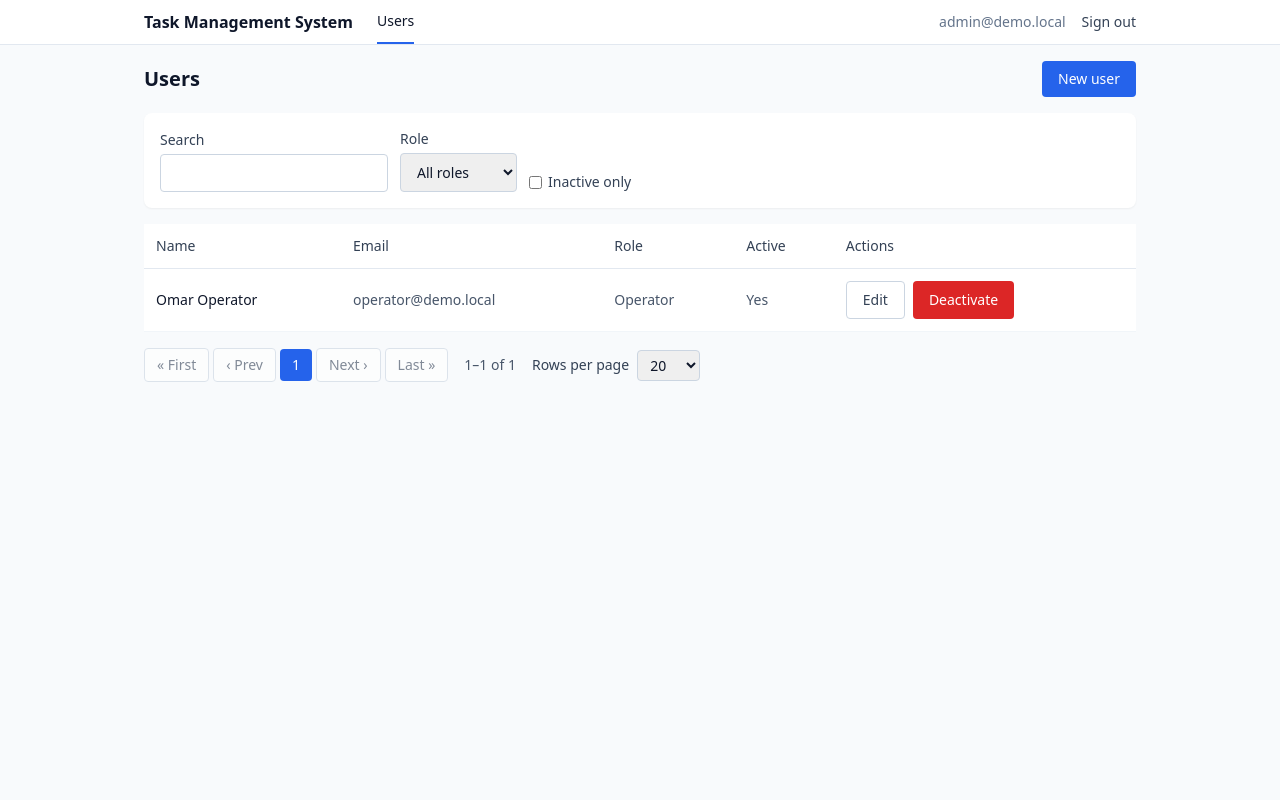
Scenario: UserListPage › focuses Cancel in the deactivate dialog and closes it on Escape (D60)
Step 1. Click the button with aria-label "deactivate operator@demo.local" → (964, 300), box [913, 281, 1014, 319]
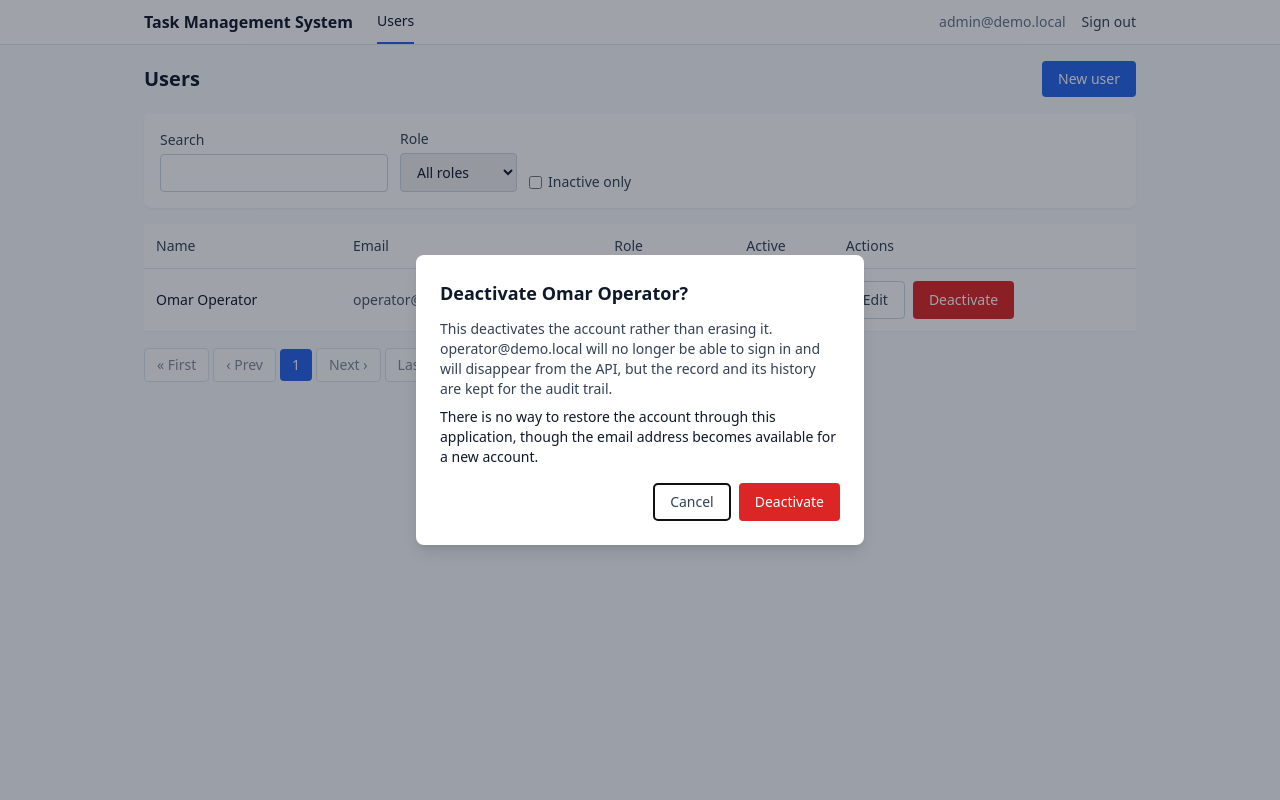
Step 2. Press Escape
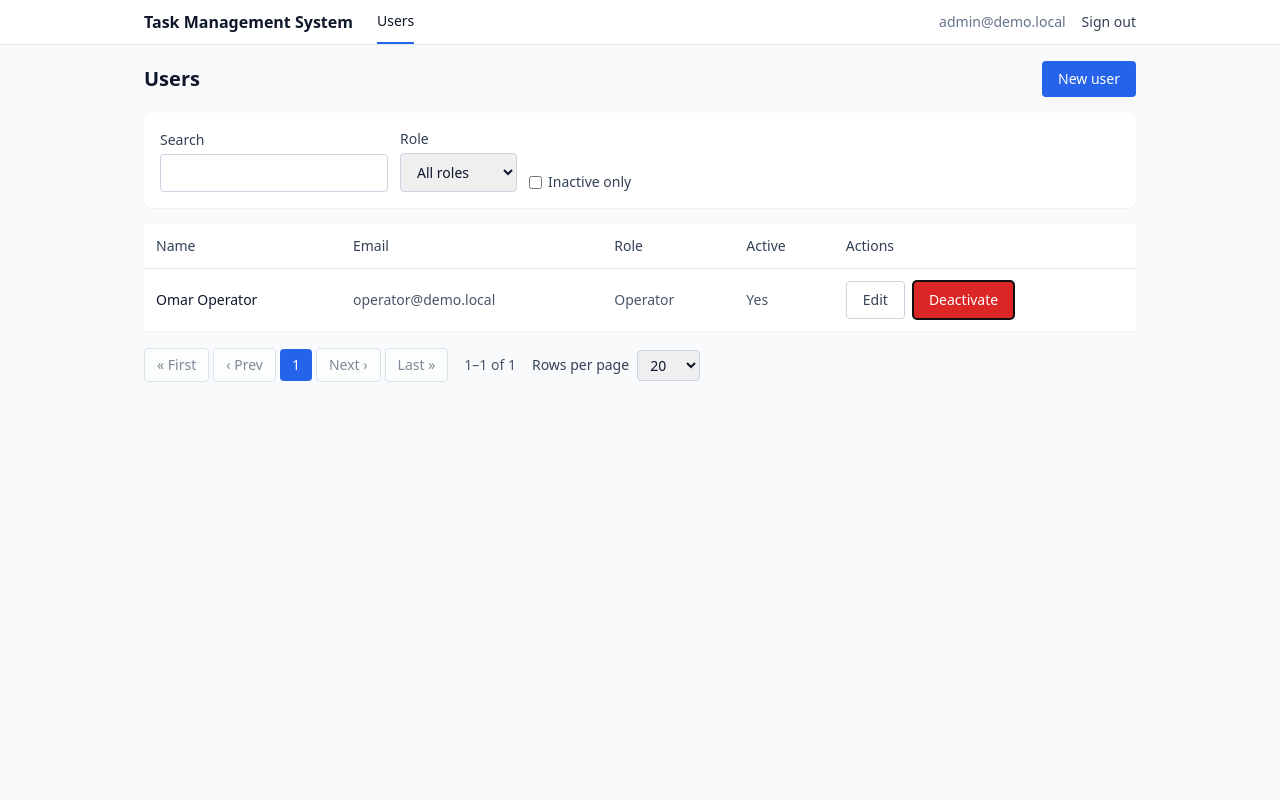
Now the dialog is gone
